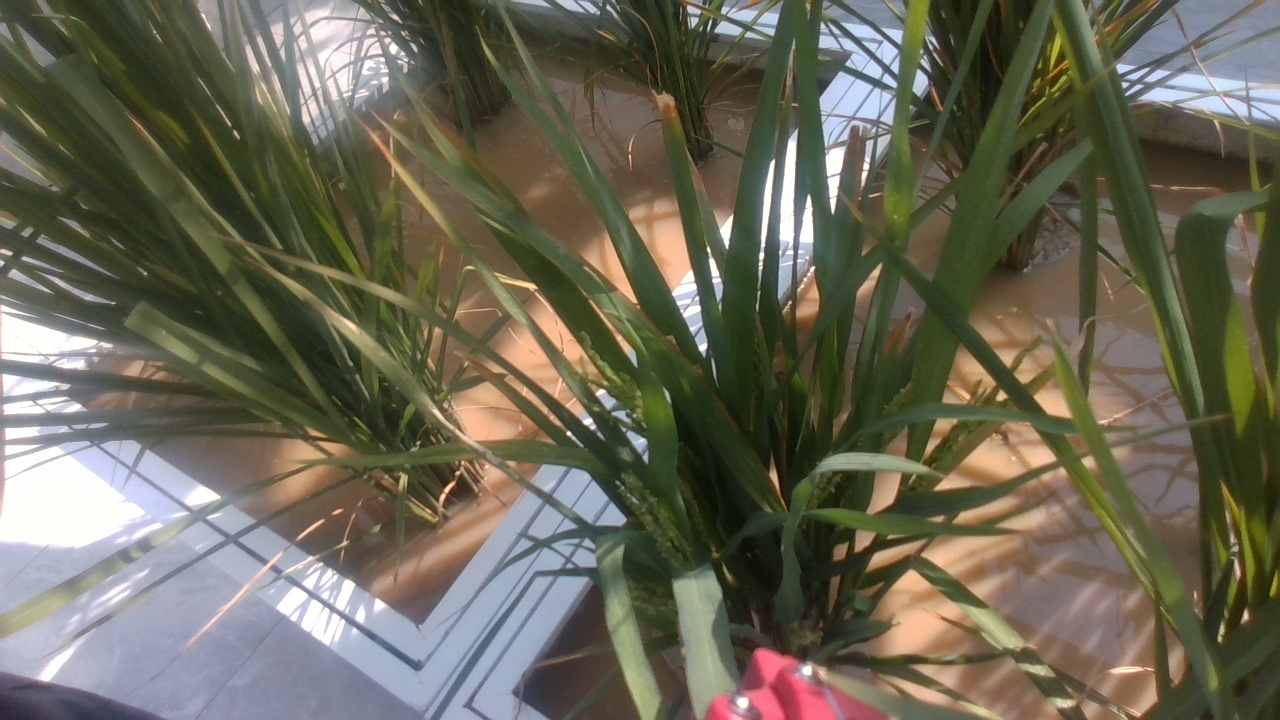panicle: (906, 350, 1065, 500), (608, 469, 696, 563), (574, 332, 650, 419)
